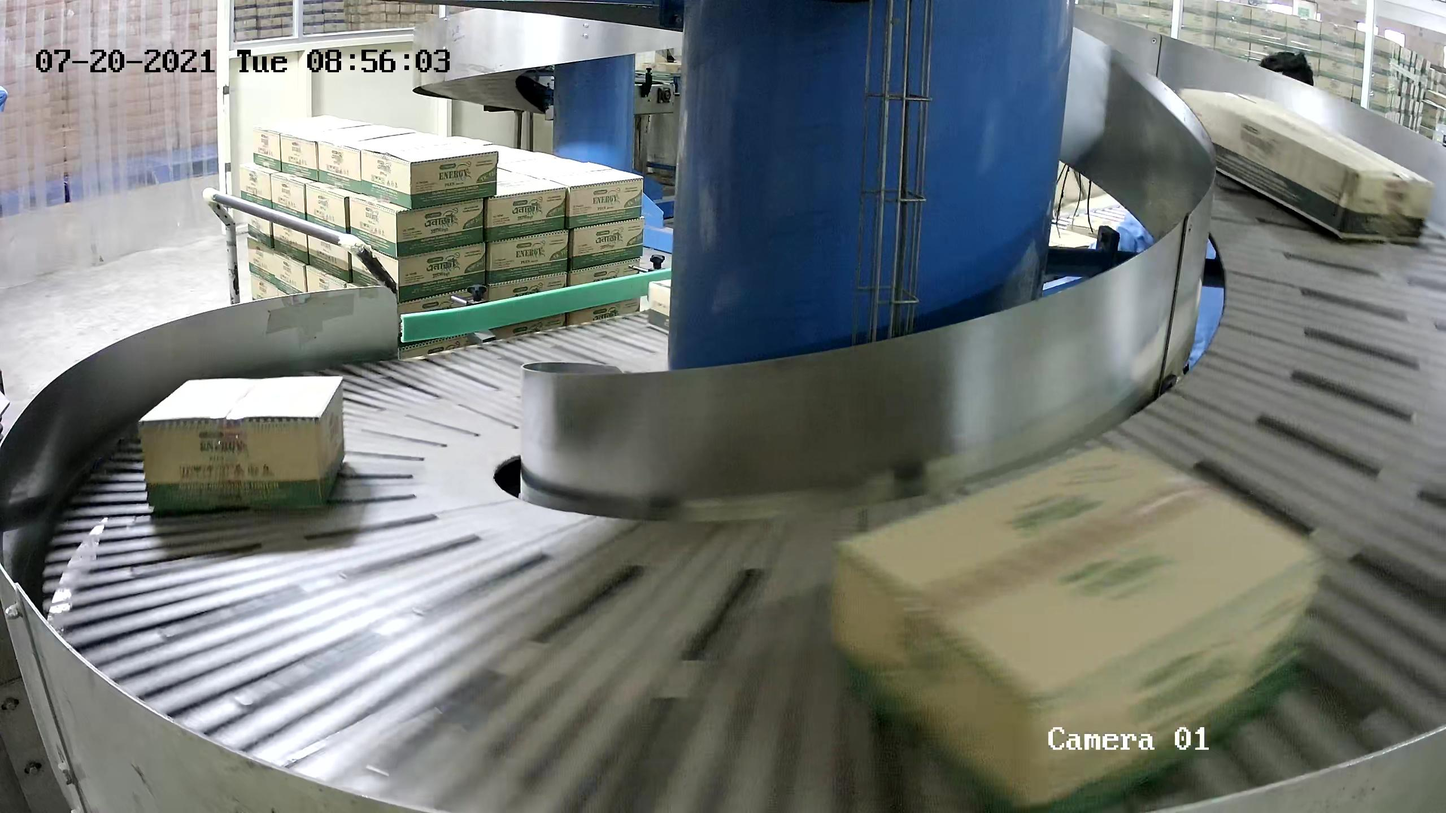Box: (828, 441, 1327, 813), (1175, 86, 1436, 240), (136, 374, 345, 511), (646, 278, 671, 334)
